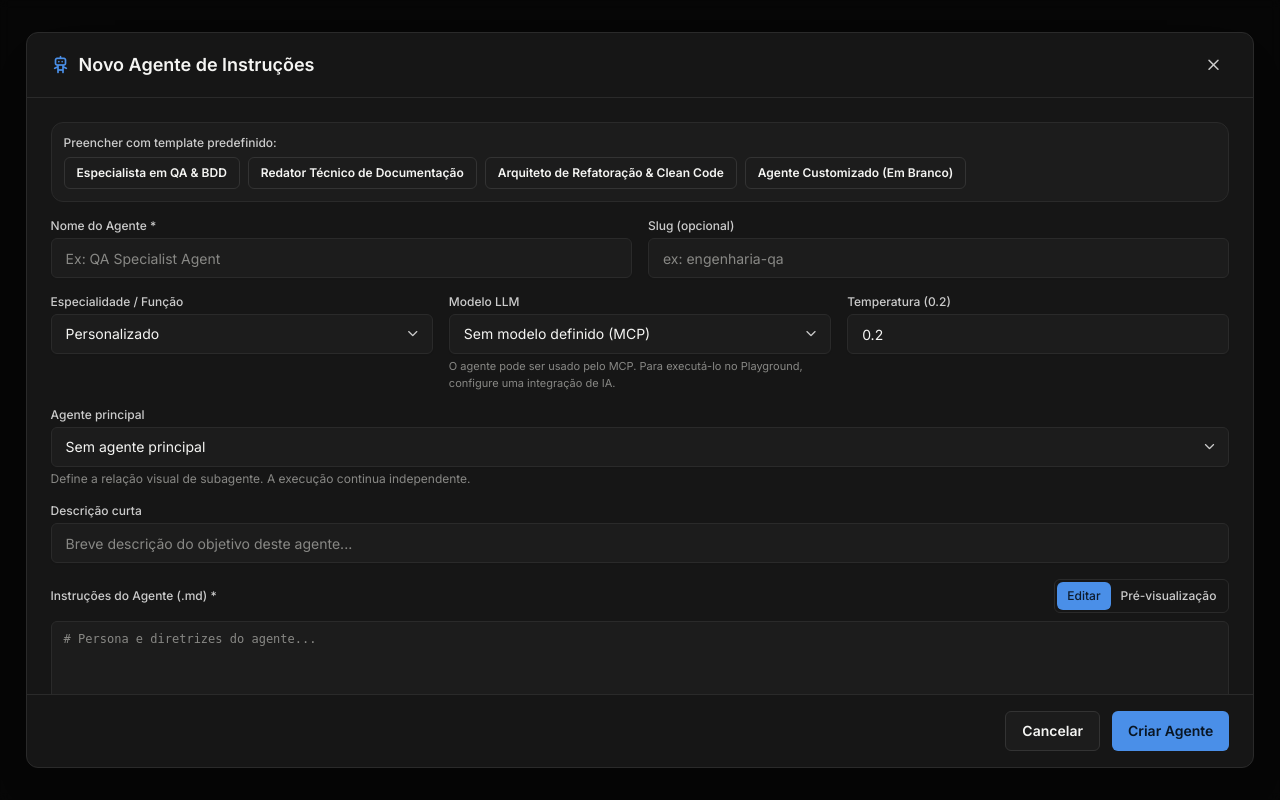
Scenario: AgentModal › renders preview with empty instructions text when empty
This screenshot has width=1280, height=800.
Click the button "Pré-visualização" at (1168, 596), box [1111,582,1226,610]
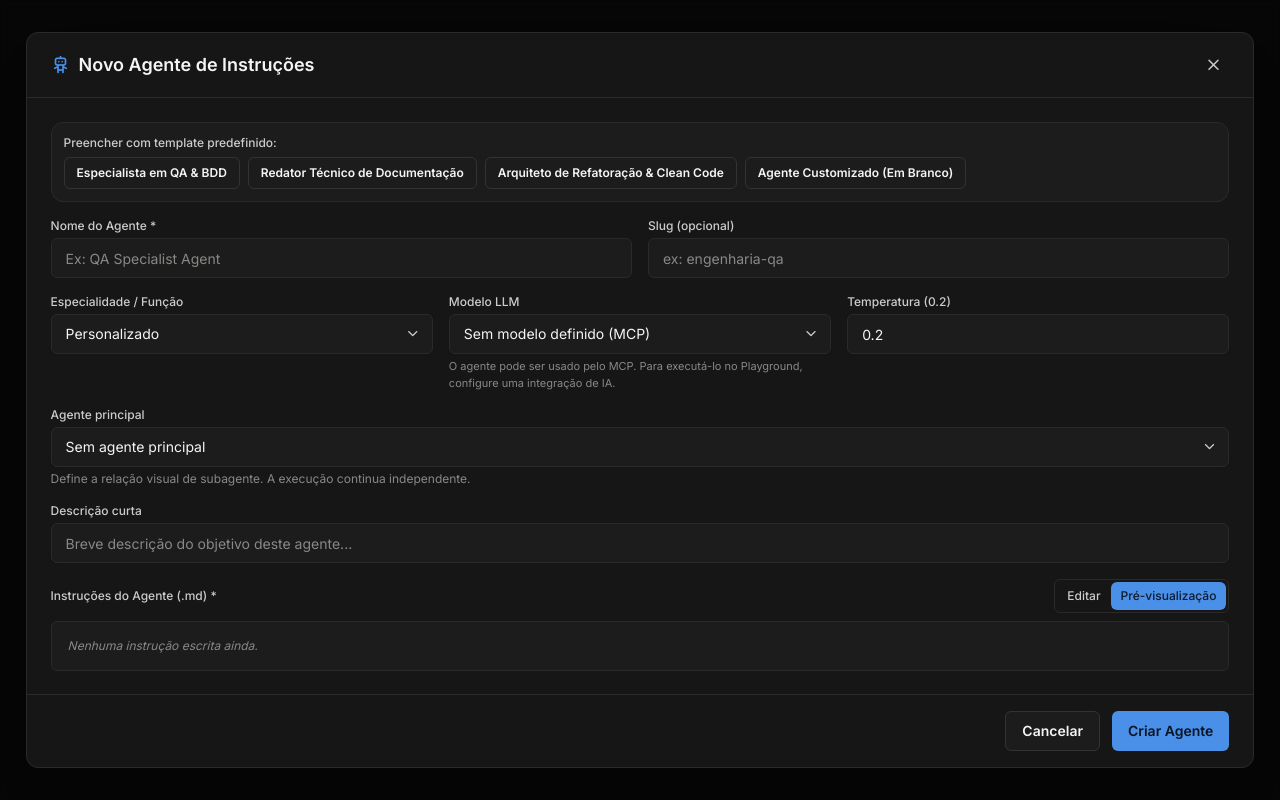
Expected: the text "Nenhuma instrução escrita ainda." is shown, [68,638,258,653]
